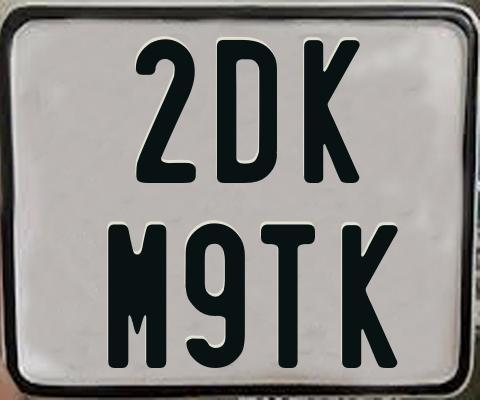2: (136, 37, 197, 187)
9: (182, 223, 244, 371)
D: (216, 37, 282, 186)
K: (301, 37, 360, 184), (342, 223, 401, 366)
M: (105, 222, 163, 367)
T: (260, 222, 318, 368)
